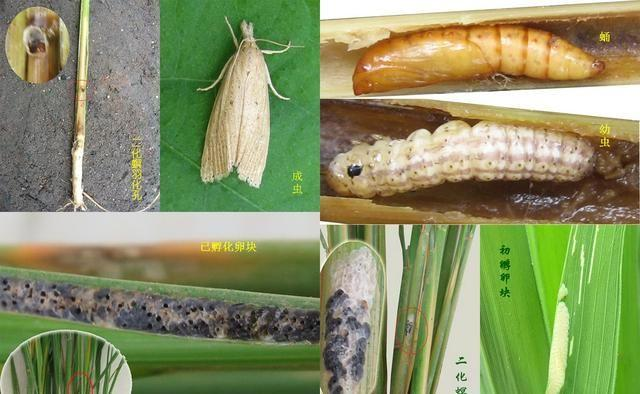Crambidae: (192, 15, 293, 192)
